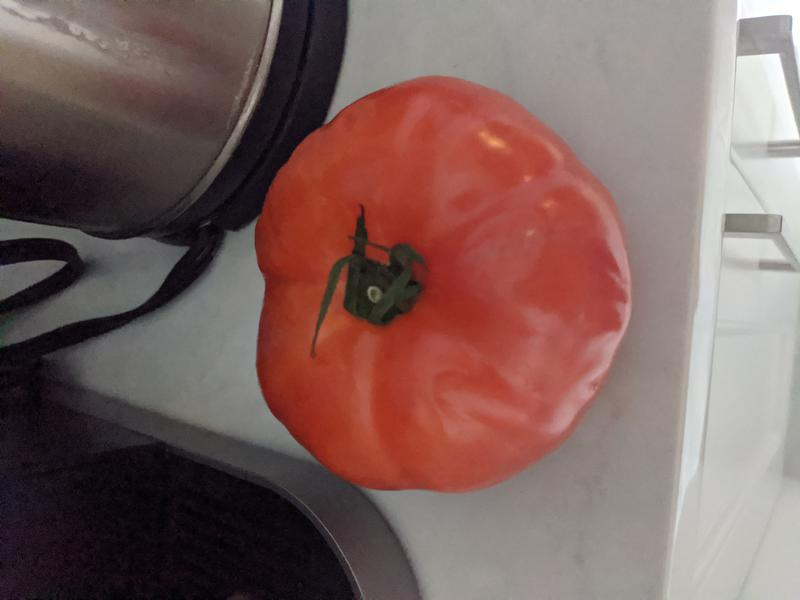tomato: (253, 76, 633, 494)
